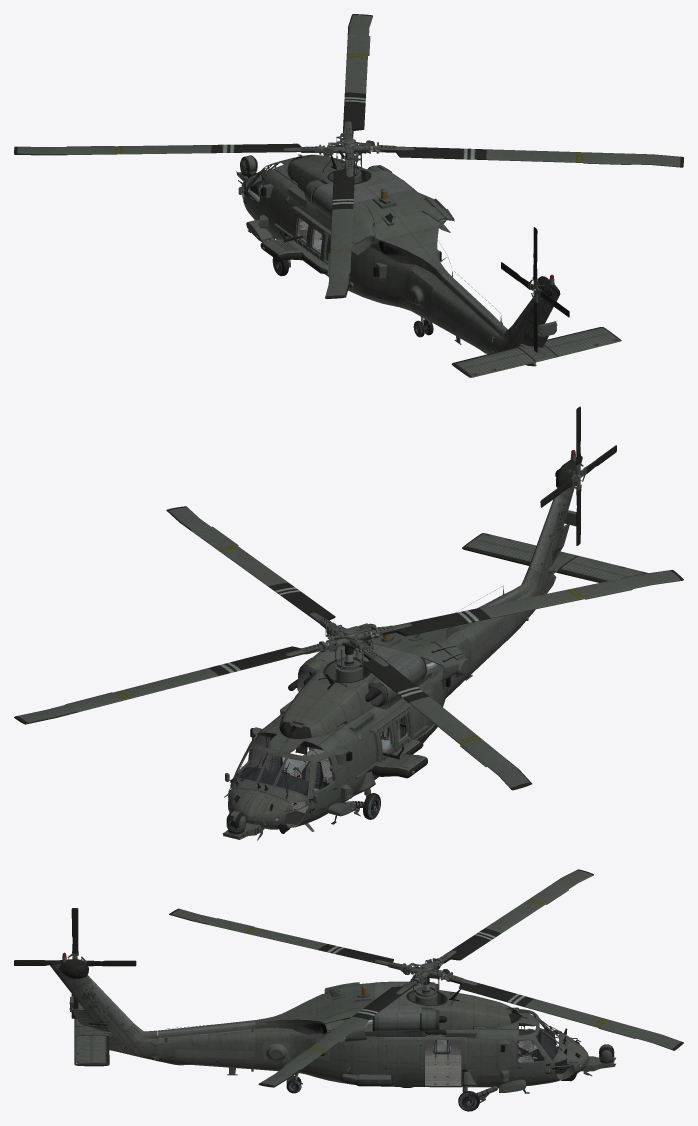
The model's file is spaceship.obj.
3 views of the same model, one above another, from view 1: azimuth 30°, elevation 25°; view 2: azimuth 150°, elevation 25°; view 3: azimuth 270°, elevation 25° (orthographic). The views are drawn at different scales.
Visible parts, largest first — view 1: Object_7.001, Object_19.001, Object_18.001, Object_10.001, Object_20.001, Object_14.001, Object_17.001, Object_11.001, Object_8.001, Object_16.001, Object_15.001, Object_9.001 (+1 smaller); view 2: Object_7.001, Object_19.001, Object_18.001, Object_17.001, Object_14.001, Object_10.001, Object_11.001, Object_16.001, Object_20.001, Object_8.001, Object_15.001, Object_0 (+4 smaller); view 3: Object_18.001, Object_7.001, Object_16.001, Object_11.001, Object_19.001, Object_15.001, Object_14.001, Object_10.001, Object_20.001, Object_0, Object_17.001, Object_6.001 (+5 smaller).
Part boxes in pixels (x1=…): Object_7.001: x1=241, y1=154, x2=502, y2=351; Object_19.001: x1=14, y1=136, x2=433, y2=323; Object_18.001: x1=15, y1=14, x2=495, y2=354; Object_10.001: x1=241, y1=159, x2=621, y2=377; Object_20.001: x1=340, y1=128, x2=683, y2=167; Object_14.001: x1=307, y1=136, x2=365, y2=298; Object_17.001: x1=241, y1=157, x2=502, y2=350; Object_11.001: x1=247, y1=164, x2=560, y2=366; Object_8.001: x1=251, y1=157, x2=500, y2=334; Object_16.001: x1=238, y1=155, x2=569, y2=321; Object_15.001: x1=238, y1=152, x2=543, y2=352; Object_9.001: x1=236, y1=155, x2=557, y2=343; Object_7.001: x1=230, y1=589, x2=527, y2=832; Object_19.001: x1=253, y1=612, x2=532, y2=829; Object_18.001: x1=14, y1=597, x2=531, y2=798; Object_17.001: x1=228, y1=617, x2=526, y2=833; Object_14.001: x1=234, y1=570, x2=683, y2=777; Object_10.001: x1=223, y1=458, x2=648, y2=840; Object_11.001: x1=228, y1=454, x2=582, y2=831; Object_16.001: x1=228, y1=445, x2=616, y2=822; Object_20.001: x1=166, y1=506, x2=349, y2=651; Object_8.001: x1=228, y1=585, x2=503, y2=823; Object_15.001: x1=225, y1=406, x2=585, y2=813; Object_0: x1=228, y1=714, x2=408, y2=827; Object_18.001: x1=154, y1=869, x2=683, y2=1087; Object_7.001: x1=154, y1=981, x2=579, y2=1092; Object_16.001: x1=14, y1=946, x2=589, y2=1092; Object_11.001: x1=49, y1=956, x2=613, y2=1071; Object_19.001: x1=396, y1=869, x2=593, y2=1038; Object_15.001: x1=67, y1=908, x2=551, y2=1086; Object_14.001: x1=169, y1=908, x2=549, y2=1076; Object_10.001: x1=62, y1=960, x2=613, y2=1076; Object_20.001: x1=258, y1=971, x2=462, y2=1087; Object_0: x1=425, y1=1008, x2=573, y2=1085; Object_17.001: x1=154, y1=1012, x2=588, y2=1092; Object_6.001: x1=154, y1=1010, x2=569, y2=1105.
Bounding box in the file's own units: 3.92 × 1.5 × 5.09.
3 materials, 3 textured.
